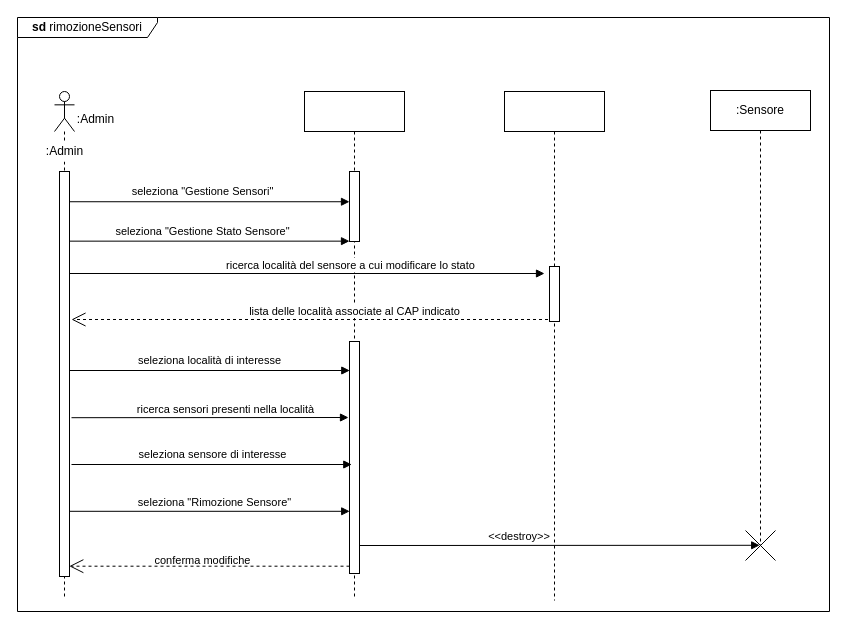
Some shapes in this 847 by 629 pixel diagram are drawn without their labels. The box of each missing label's shape, as (x1, y1, x2, y2) in pixels:
:Località: (504, 90, 604, 600)
:Sensori: (304, 90, 404, 598)
